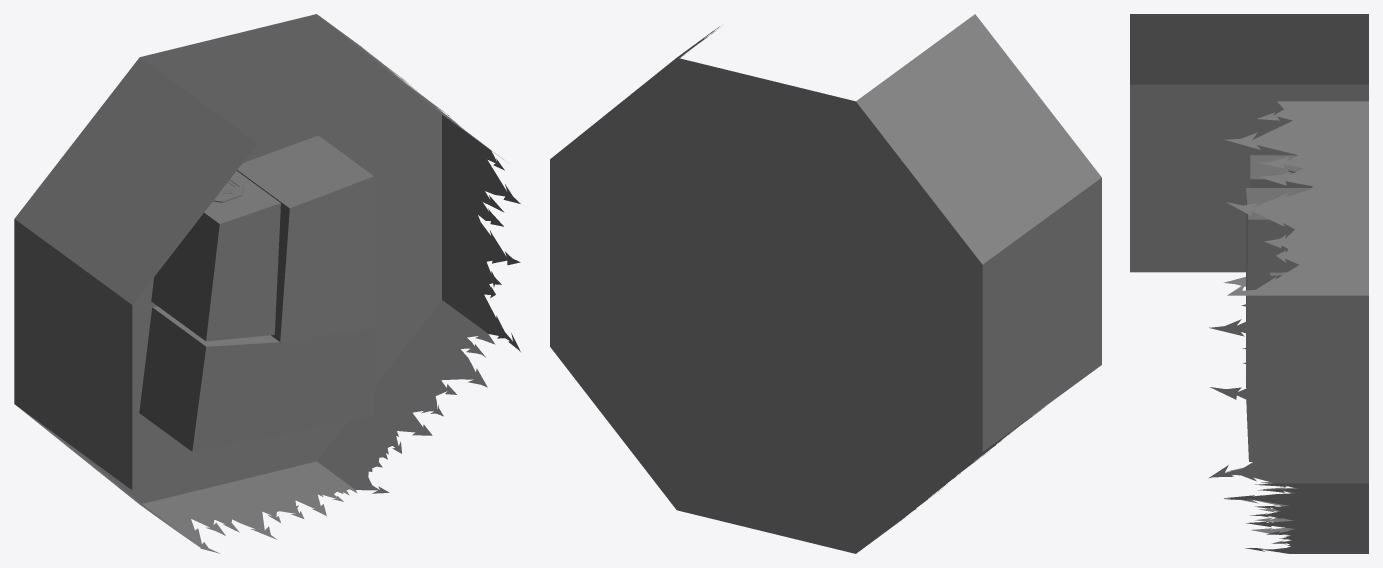
Rendered from house_full_trees.glb.
3 renders of one model, left to right at view 1: azimuth 30°, elevation 25°; view 2: azimuth 150°, elevation 25°; view 3: azimuth 270°, elevation 25°, orthographic.
Visible parts, largest first — view 1: mesh_id20, mesh_id15, mesh_id13, mesh_id14; view 2: mesh_id20; view 3: mesh_id20, mesh_id13.
Part boxes in pixels (x1,y1,x2,y2): mesh_id20: (14,14,520,553); mesh_id15: (192,176,375,451); mesh_id13: (139,135,373,451); mesh_id14: (206,203,280,341); mesh_id20: (550,14,1101,553); mesh_id20: (1130,14,1368,553); mesh_id13: (1246,155,1312,461).
Size of the model in its own units: 0.5115 by 0.512 by 0.2445.
Materials: 17 (17 with a texture image).
